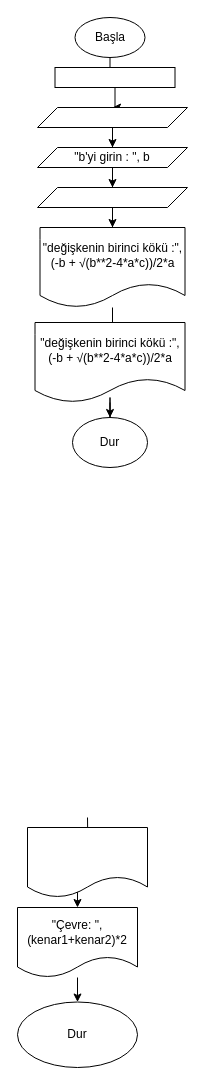
The diagram is 205 pixels wide and 1085 high, and some of its shapes have lost their labels. Each missing label, with the box of its shape:
"a'yı girin : ", a: (36, 106, 188, 128)
"Alan: ", kenar1*kenar2: (26, 826, 148, 898)
"c'yi girin : ", c: (36, 186, 188, 208)
int a, b,c: (54, 66, 175, 88)
